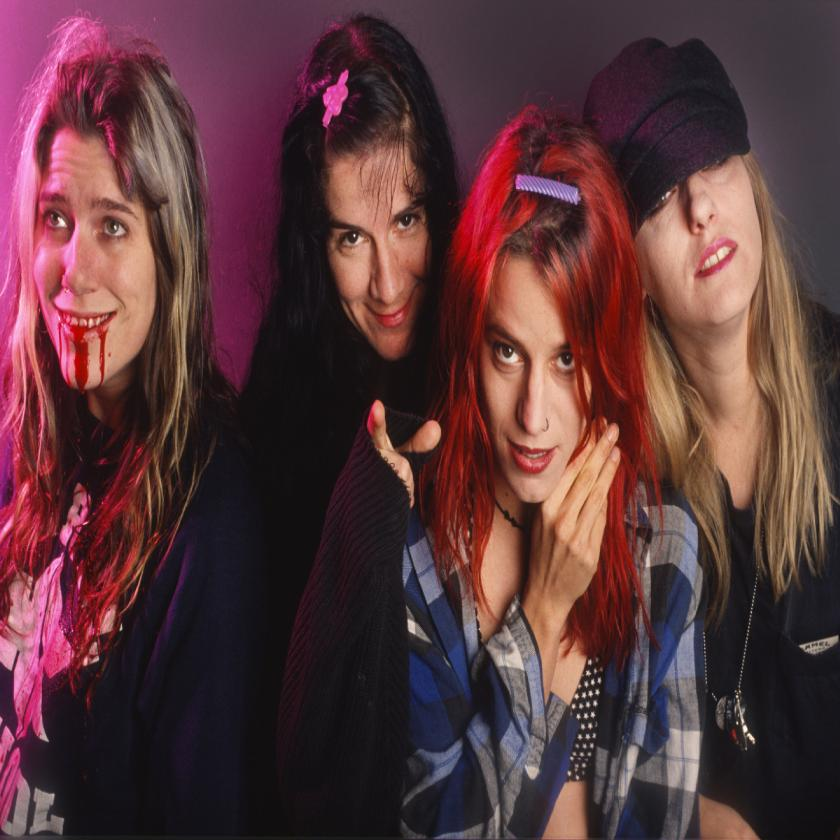Sin_casco: (20, 27, 207, 427), (474, 105, 629, 502), (283, 13, 448, 357)
